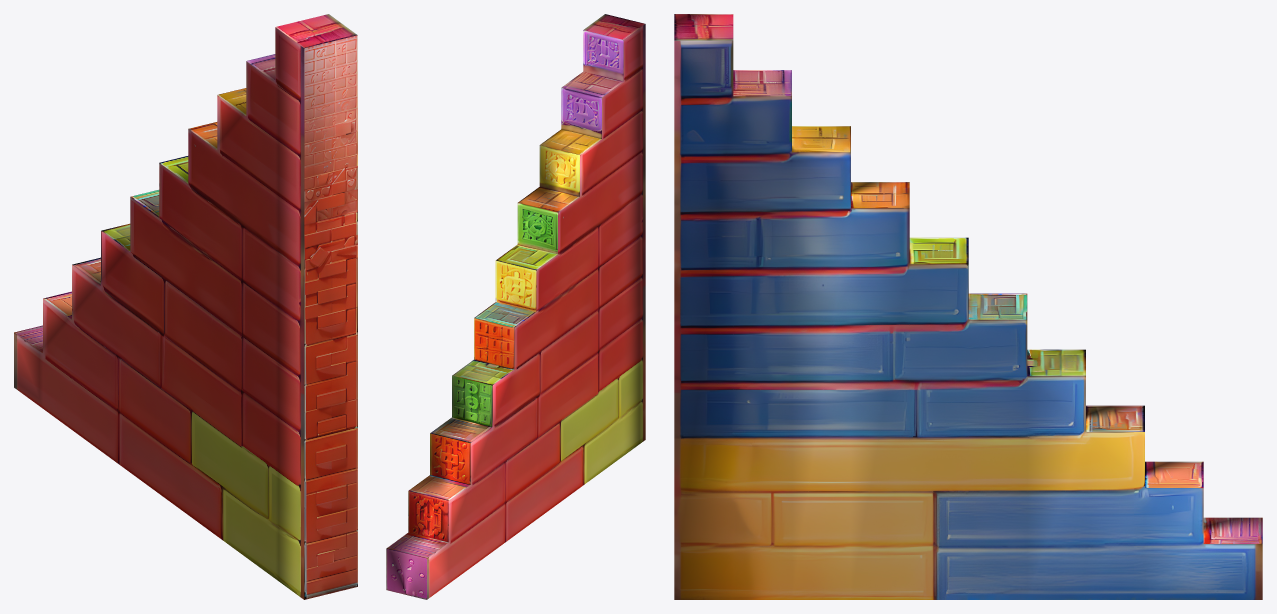
File: stairs.glb
3 renders of one model, left to right at view 1: azimuth 30°, elevation 25°; view 2: azimuth 150°, elevation 25°; view 3: azimuth 270°, elevation 25°, orthographic. The views are drawn at different scales.
Bounding box in the file's own units: 1.37 × 13.43 × 12.8.
Materials: 1 (1 with a texture image).
